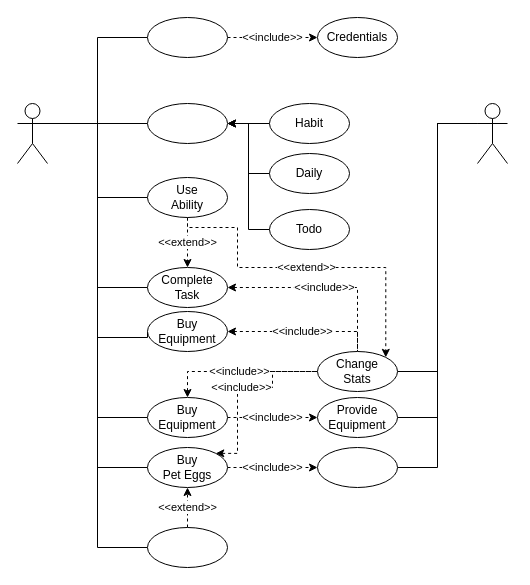
The diagram is 530 pixels wide and 585 high, and some of its shapes have lost their labels. Here are the shapes that lost their labels. From the top down, the centre of each, then its label:
At (x=187, y=37): "Login".
At (x=32, y=133): "User".
At (x=187, y=123): "Add Task".
At (x=492, y=133): "System".
At (x=357, y=467): "Provide Eggs".
At (x=187, y=547): "Raise Pets".
